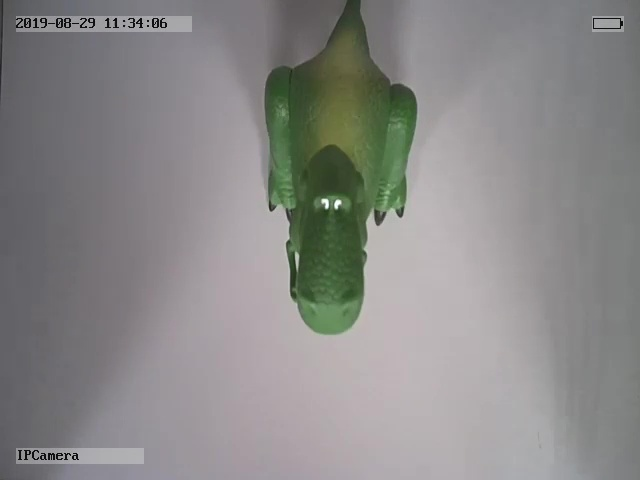rex: (258, 2, 421, 338)
